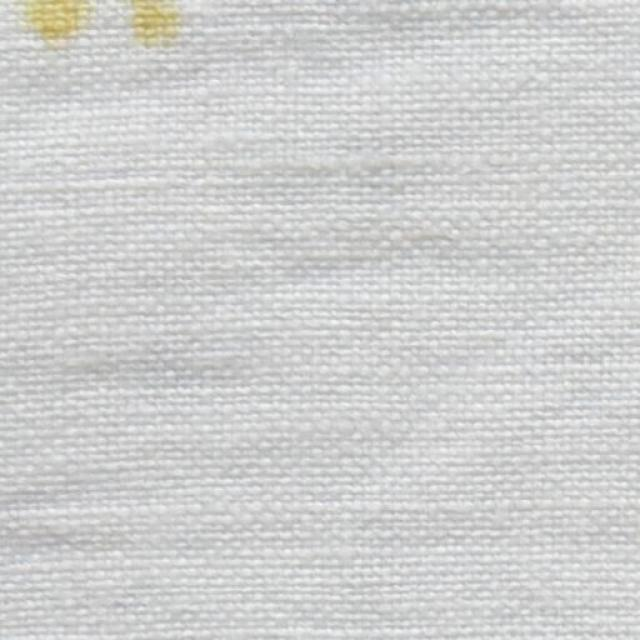Stain: (24, 0, 91, 39), (131, 0, 180, 46)
